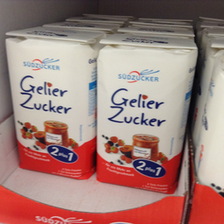sugar: (97, 33, 199, 194), (3, 26, 99, 181)
